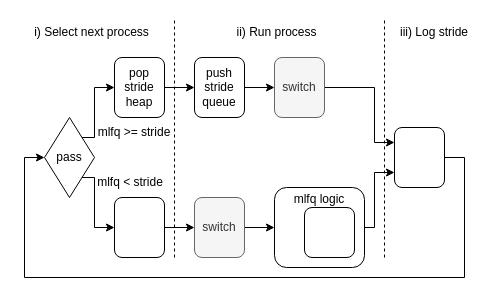
This 492x303 diagram has some shape labels left out. The shapes that lost their labels are listed below. From the top down, each one's centre as x and y in pixels, then its label:
At point (419, 157): "stride logic".
At point (139, 227): "mlfq select".
At point (329, 232): "priority boost".
